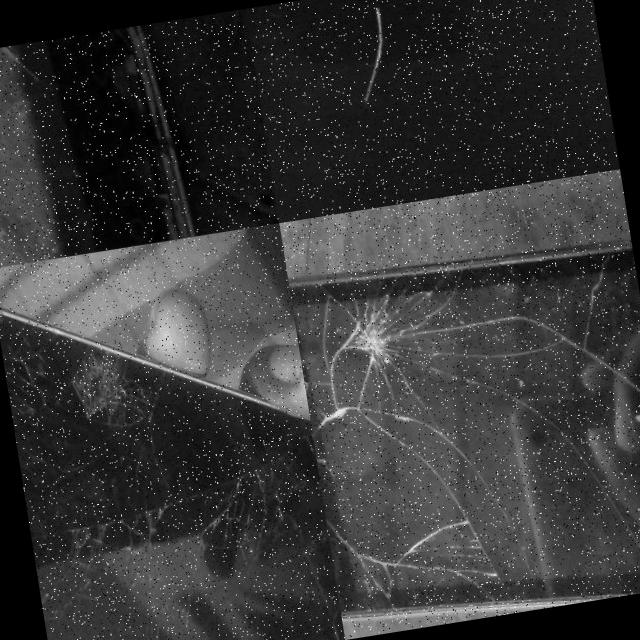scratch: (310, 0, 416, 119)
screen crack: (286, 215, 640, 634), (0, 21, 196, 268), (21, 446, 239, 637), (259, 386, 339, 614), (32, 319, 151, 446)
